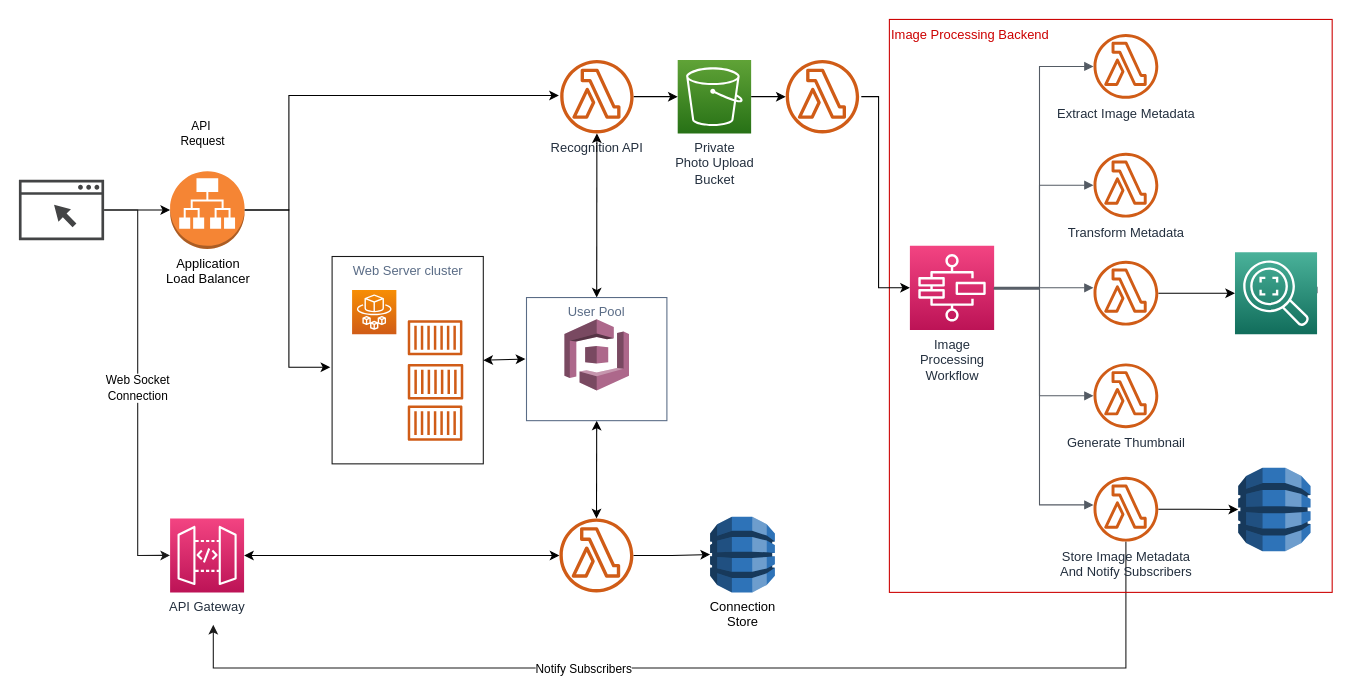
Image size: 1351x696. Some labels were removed from this diagram. The centre of each missing label's shape, as x and y in pixels:
"Amazon Cognito" goes at point (596, 354).
"AWS Fargate" goes at point (373, 311).
"Browser" goes at point (61, 209).
"Communication API" goes at point (596, 555).
"Object Detection" goes at point (1125, 292).
"S3 Trigger" goes at point (822, 96).
